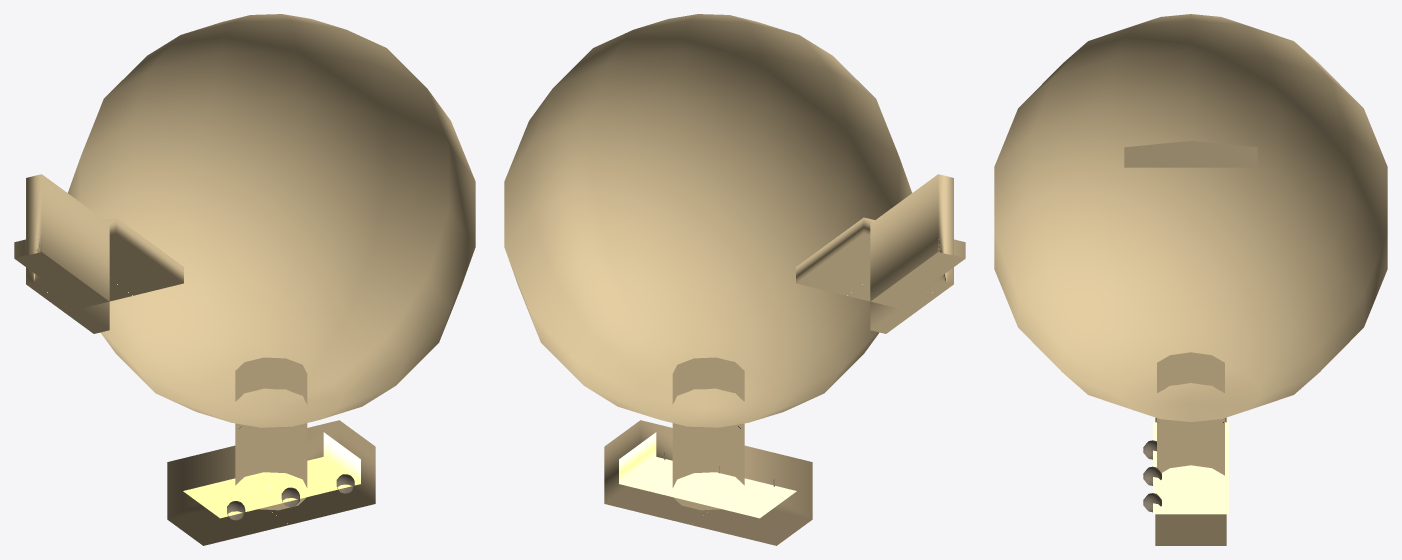
Rendered from bg_airship.glb.
3 renders of one model, left to right at view 1: azimuth 30°, elevation 25°; view 2: azimuth 150°, elevation 25°; view 3: azimuth 270°, elevation 25°, orthographic.
Bounding box in the file's own units: 102 × 117 × 88.33.
